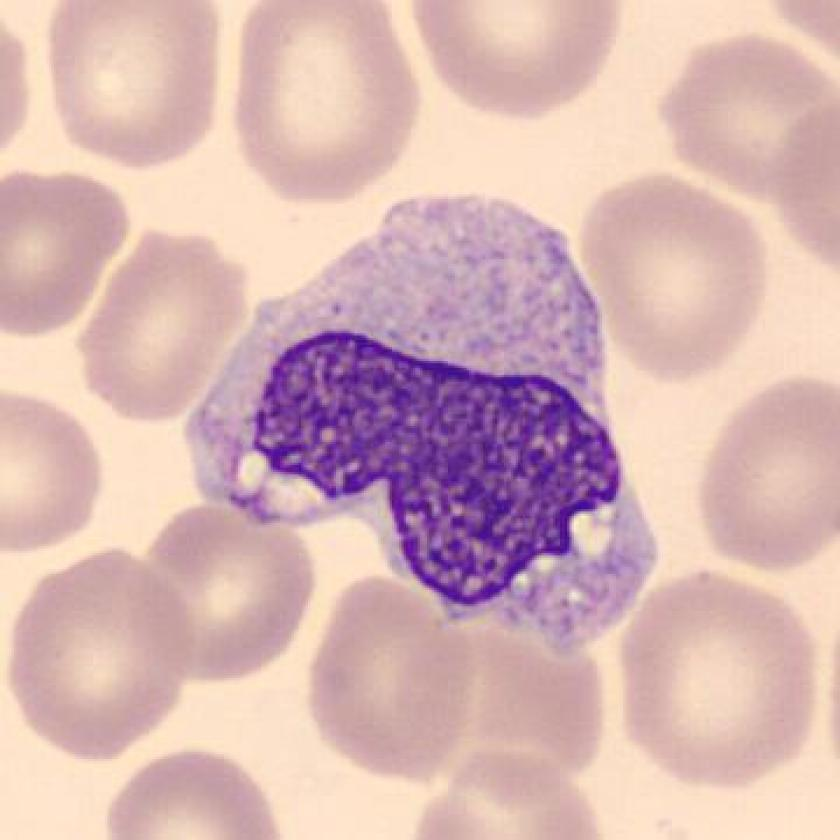monocyte: (167, 168, 682, 663)
